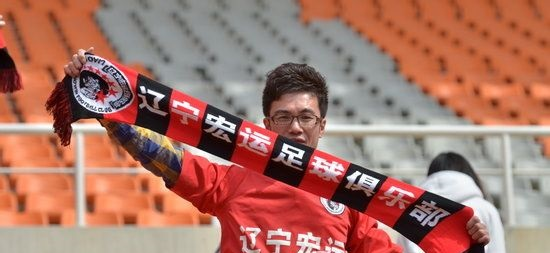face: (267, 92, 319, 153)
